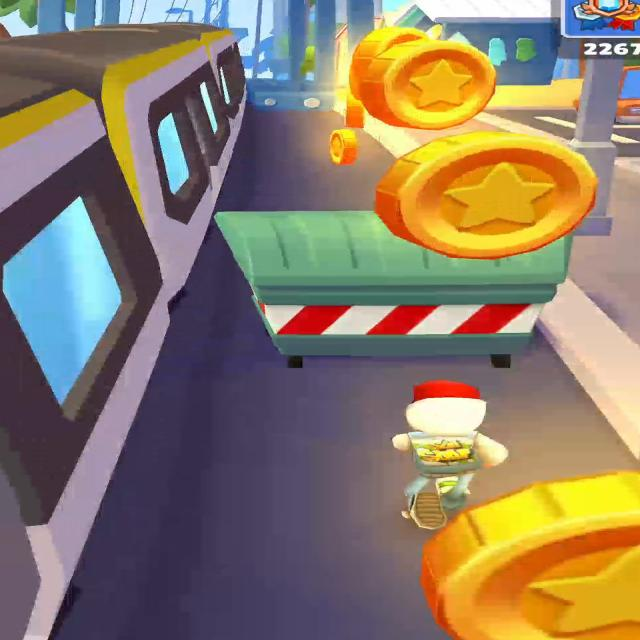roll blocker: (217, 211, 570, 367), (249, 80, 334, 111)
train: (0, 91, 168, 635), (0, 23, 245, 301)
